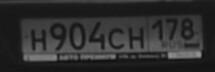license-plateSW: (19, 12, 204, 56)
